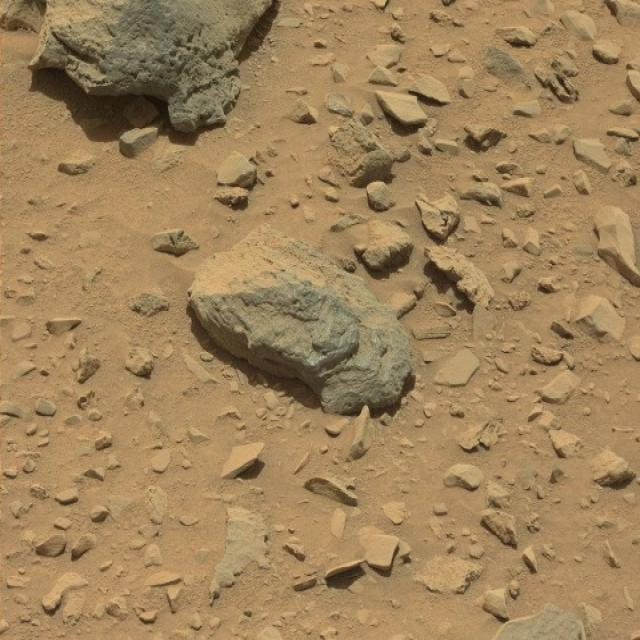rock: (184, 225, 418, 414), (25, 0, 284, 127)
